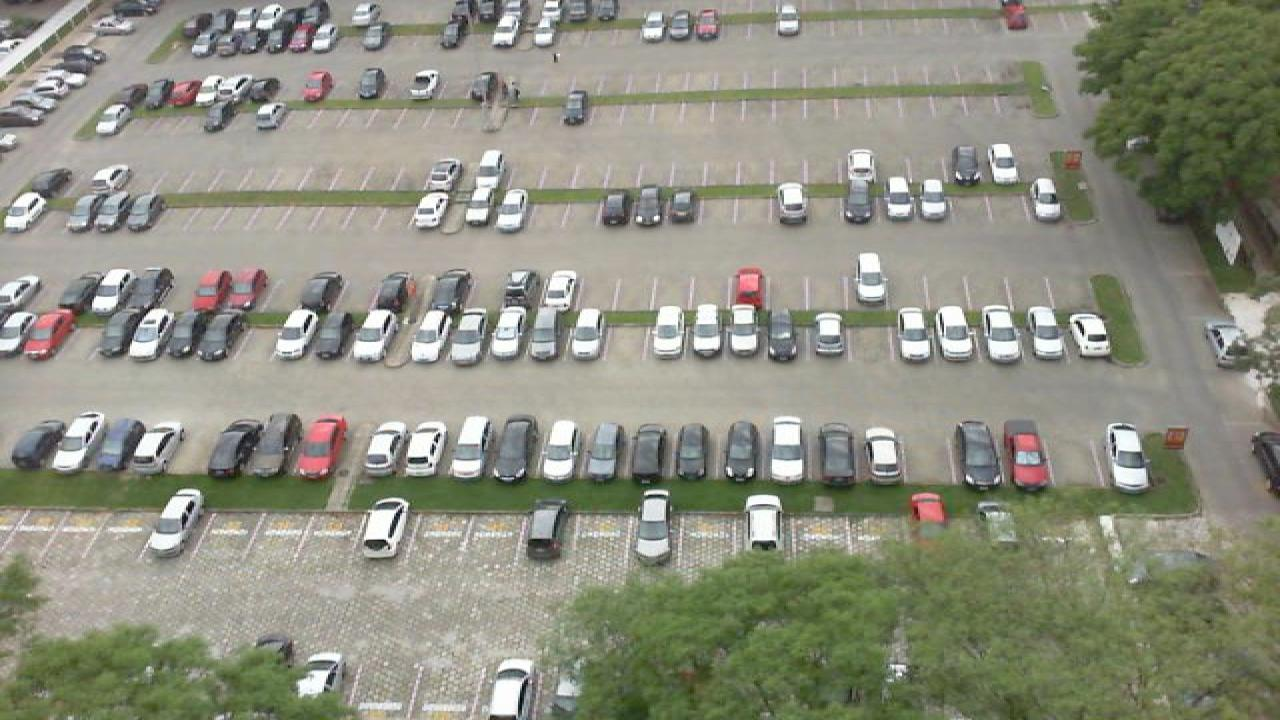Car: (142, 487, 204, 560), (478, 657, 538, 720), (48, 410, 108, 472), (956, 419, 1006, 492), (204, 417, 260, 480), (1004, 419, 1052, 492), (250, 411, 302, 477), (356, 498, 410, 560), (1106, 422, 1152, 494), (294, 414, 346, 477), (634, 489, 676, 565), (128, 421, 186, 475), (488, 415, 534, 483), (448, 414, 496, 478), (740, 493, 786, 559), (522, 499, 570, 562), (8, 420, 66, 472), (766, 414, 808, 485), (356, 421, 408, 478), (20, 307, 76, 359), (398, 421, 448, 478), (976, 304, 1024, 363), (930, 304, 978, 363), (862, 423, 906, 486), (88, 305, 138, 360), (294, 651, 348, 701), (270, 307, 320, 361), (814, 420, 856, 484), (722, 419, 764, 483), (624, 421, 666, 485), (164, 307, 212, 362), (1024, 305, 1070, 362), (580, 420, 622, 482), (1204, 319, 1256, 369), (444, 307, 488, 366), (92, 421, 140, 475), (562, 306, 608, 362), (1062, 312, 1114, 361), (672, 420, 712, 483), (540, 418, 580, 480), (406, 308, 450, 364), (124, 308, 170, 361), (88, 266, 138, 314), (308, 310, 354, 362), (352, 310, 396, 364), (204, 308, 248, 362), (524, 306, 566, 362), (484, 307, 526, 363), (122, 266, 172, 312), (50, 269, 102, 313), (648, 305, 688, 362), (364, 269, 412, 316), (296, 270, 346, 315), (892, 306, 932, 361), (726, 304, 764, 361), (2, 169, 48, 216), (688, 305, 726, 361), (906, 492, 952, 538), (428, 268, 474, 314), (492, 269, 538, 313), (188, 268, 234, 312), (812, 310, 850, 362), (766, 310, 804, 362), (852, 252, 890, 304), (770, 180, 812, 226), (0, 306, 38, 356), (408, 189, 452, 232), (228, 268, 270, 312), (120, 191, 162, 234), (64, 191, 106, 233), (916, 176, 954, 222), (732, 264, 768, 312), (494, 187, 530, 235), (540, 268, 580, 310), (470, 148, 508, 192), (882, 176, 918, 222), (462, 186, 498, 232), (92, 191, 130, 234), (842, 177, 876, 225), (424, 155, 464, 195), (984, 144, 1022, 186), (86, 163, 134, 196), (1030, 176, 1064, 222), (632, 182, 666, 226), (950, 144, 984, 187), (468, 70, 506, 108), (0, 271, 40, 306), (300, 68, 336, 105), (598, 188, 632, 227), (190, 74, 226, 109), (202, 100, 238, 134), (492, 15, 526, 50), (666, 189, 698, 226), (408, 68, 442, 102), (216, 75, 252, 107), (440, 14, 470, 52), (562, 89, 592, 126), (846, 148, 878, 182), (142, 77, 176, 109), (356, 66, 386, 102), (252, 102, 288, 132), (528, 10, 558, 46), (666, 9, 698, 42), (284, 21, 316, 54), (248, 73, 282, 104), (774, 2, 804, 37), (102, 102, 138, 131), (260, 23, 292, 55), (116, 81, 150, 111), (236, 25, 268, 56), (360, 20, 390, 53), (640, 9, 668, 44), (312, 19, 340, 54), (212, 27, 244, 57), (166, 79, 198, 108), (256, 4, 288, 33), (1000, 0, 1030, 30), (694, 8, 722, 40), (188, 30, 220, 58), (234, 4, 262, 33), (350, 0, 382, 25), (192, 10, 220, 37), (302, 0, 332, 25), (216, 9, 242, 36)
